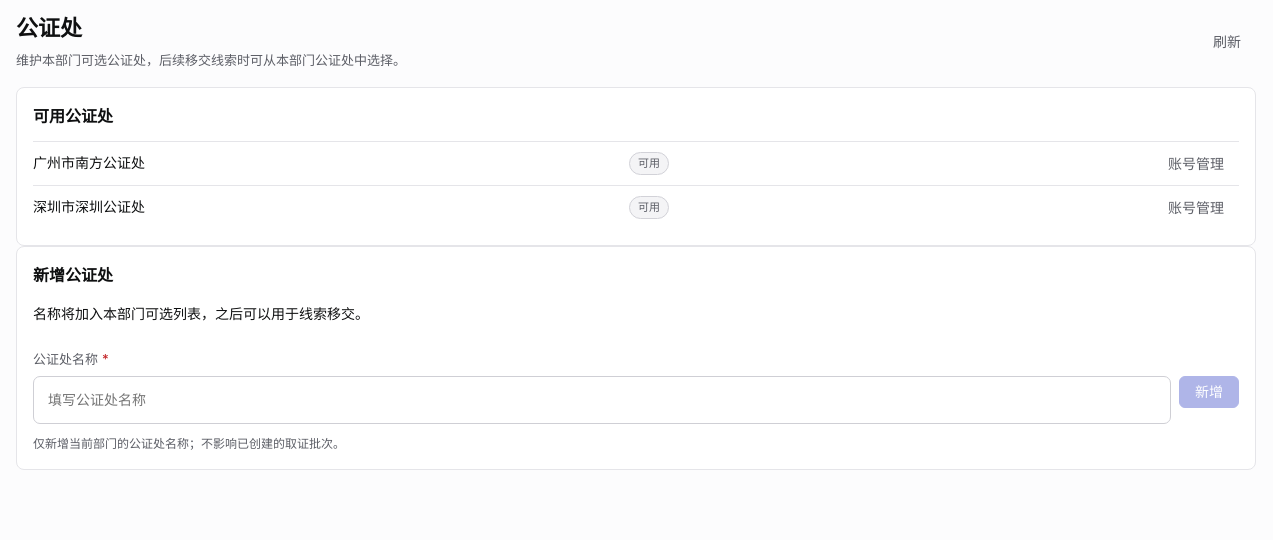
NotaryOfficesPage › explains duplicate and denied office creation errors
This screenshot has width=1273, height=540.
Type "已存在公证处" into the field with test id "new-notary-office-name".
click(602, 400); type("已存在公证处")  # box [33, 376, 1171, 424]
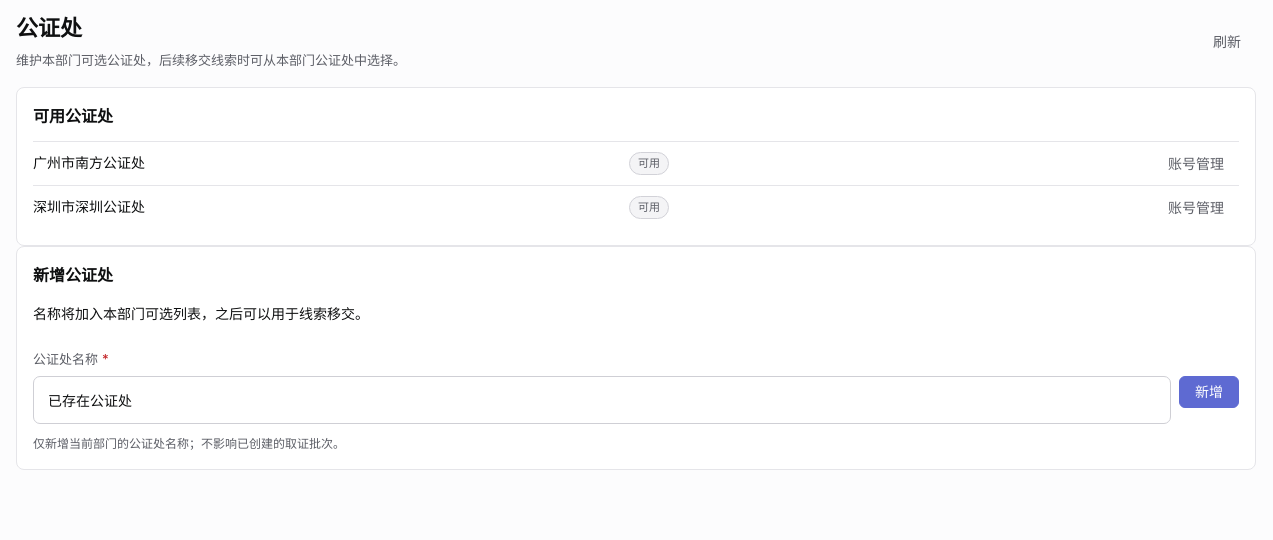
Click the button with test id "create-notary-office".
click(1209, 392)  # box [1179, 376, 1239, 408]
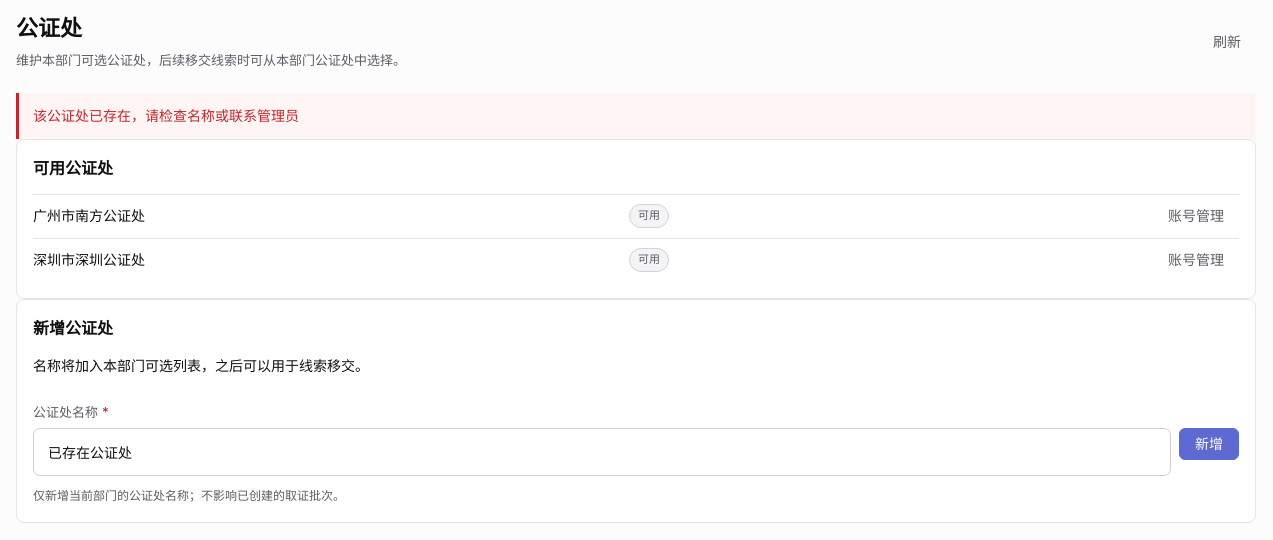
Expected: the text "该公证处已存在，请检查名称或联系管理员" is shown, [16, 93, 1256, 139]
